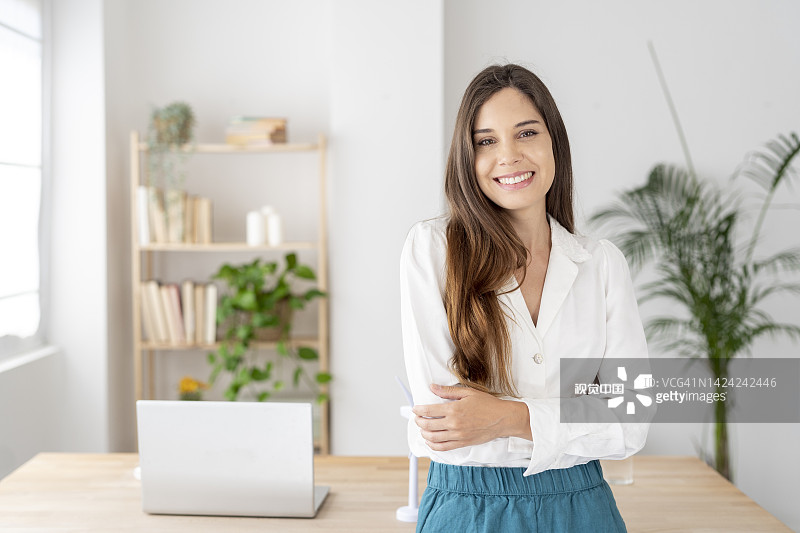no-phone: (393, 374, 535, 460)
